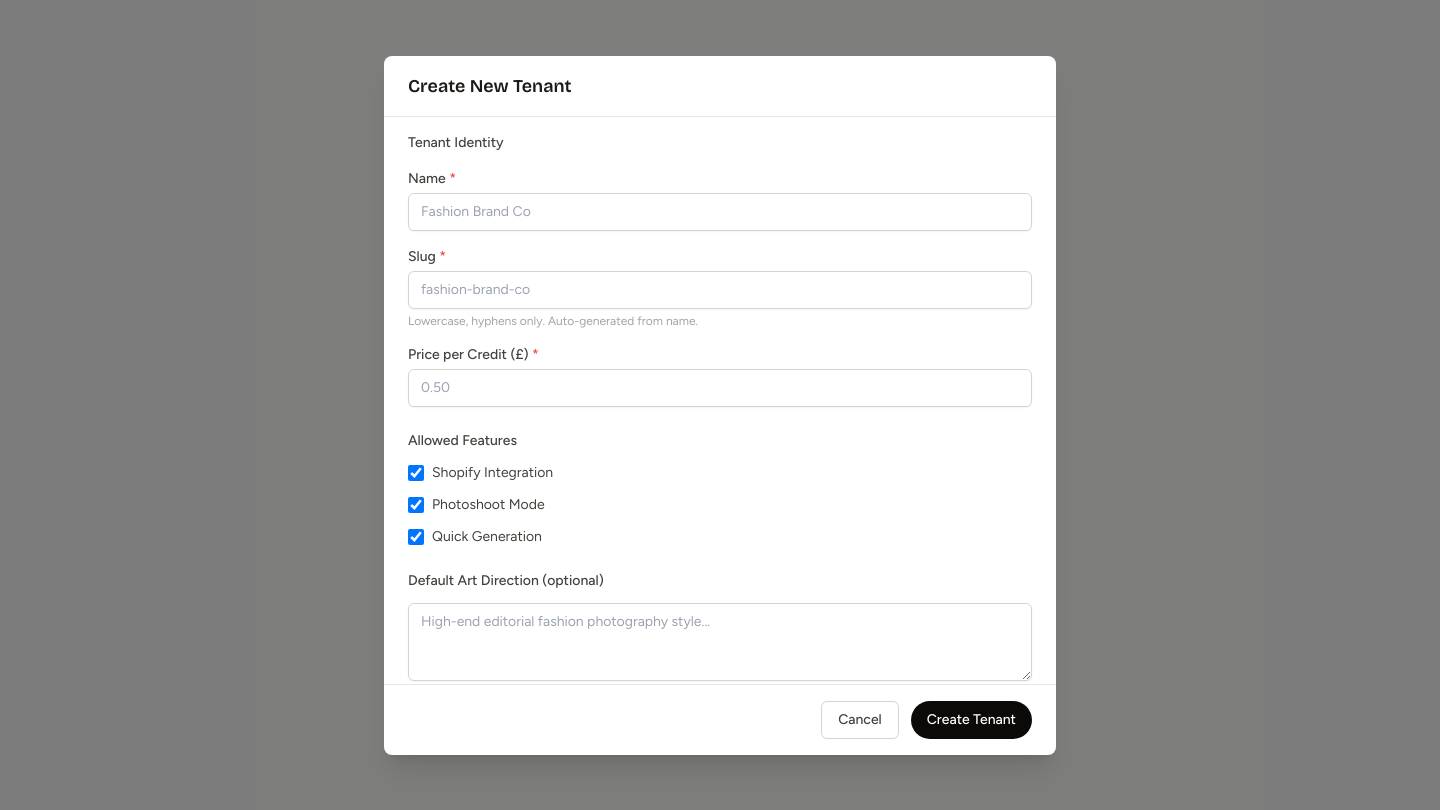
Test: CreateTenantDialog › slug auto-generation › auto-generates slug from name
Type "My Fashion Brand" into the field labelled "Name *". click: [720, 212]
box: [408,192,1032,230]
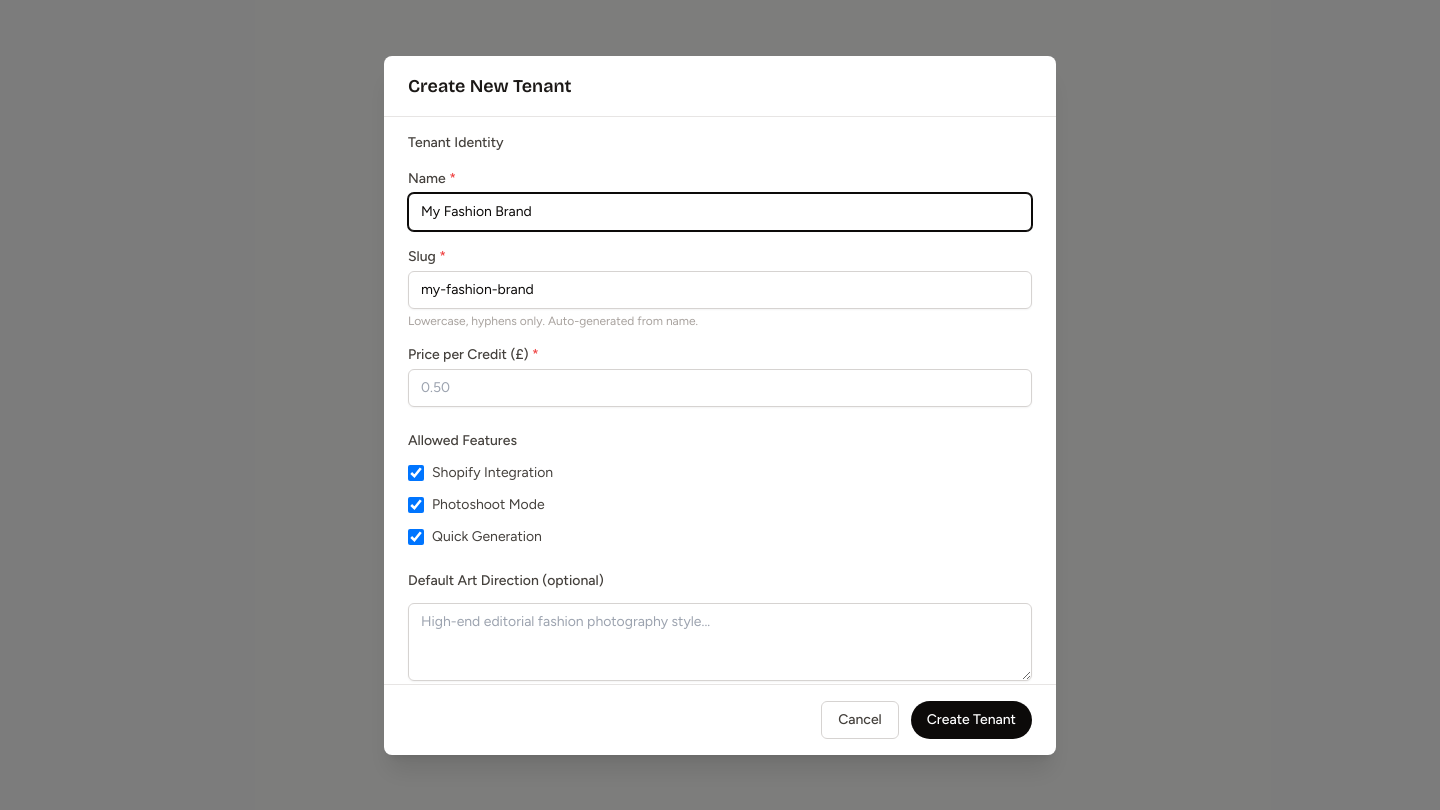
Expected: the field labelled "Slug *" holds "my-fashion-brand", [408,270,1032,308]
